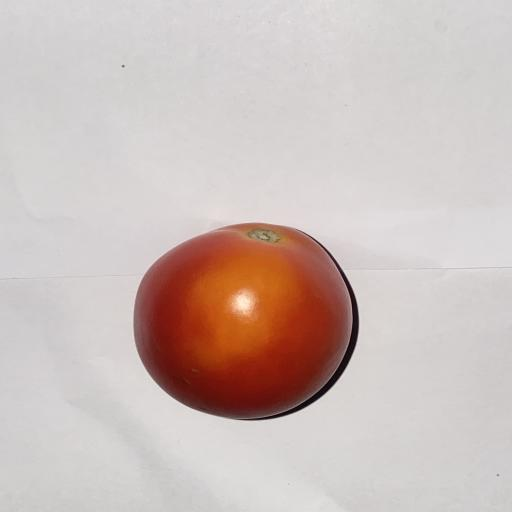ripe: (134, 223, 352, 419)
